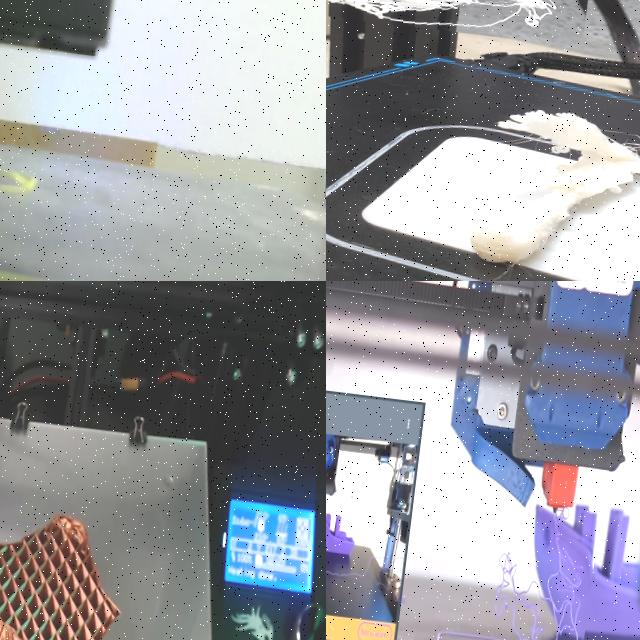spaghetti: (485, 524, 597, 640), (326, 0, 597, 47)
